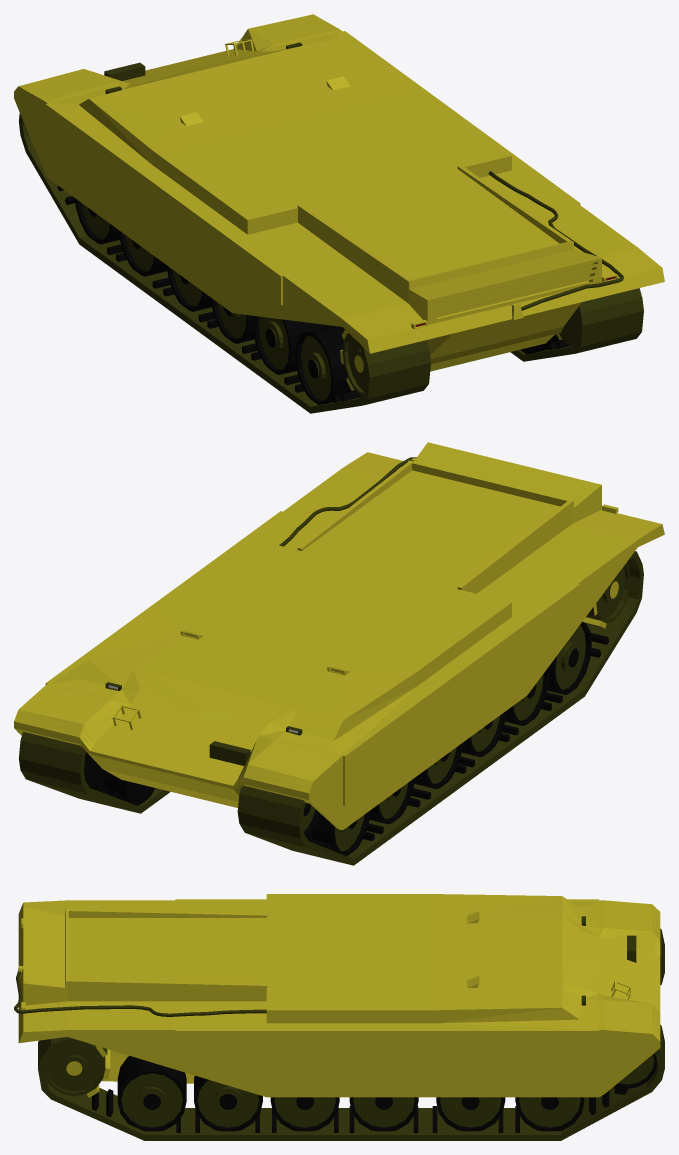
Rendered from orthopillar.dae.
The picture shows the model from 3 angles, top to bottom: view 1: azimuth 30°, elevation 25°; view 2: azimuth 150°, elevation 25°; view 3: azimuth 270°, elevation 25°; orthographic projection. The views are drawn at different scales.
Visible parts, largest first — view 1: body, track, wheels1, wheels2, wheels_engine, cable, wheels3, wheels5, wheels6, wheels4; view 2: body, track, wheels6, wheels1, wheels_engine, wheels2, wheels4, wheels_drive, wheels5, wheels3, box_front, cable; view 3: body, track, wheels1, wheels_engine, wheels2, wheels3, wheels5, wheels6, wheels4, cable, wheels_drive.
Part boxes in pixels (left/top/right/bottom): body: left=14, top=14, right=664, bottom=371; track: left=18, top=113, right=643, bottom=413; wheels1: left=295, top=325, right=562, bottom=404; wheels2: left=252, top=316, right=330, bottom=374; wheels_engine: left=340, top=310, right=578, bottom=396; cable: left=488, top=171, right=623, bottom=310; wheels3: left=210, top=297, right=254, bottom=343; wheels5: left=119, top=230, right=167, bottom=276; wheels6: left=75, top=198, right=119, bottom=244; wheels4: left=167, top=265, right=211, bottom=311; body: left=14, top=442, right=664, bottom=830; track: left=18, top=551, right=643, bottom=865; wheels6: left=104, top=772, right=370, bottom=855; wheels1: left=547, top=621, right=591, bottom=694; wheels_engine: left=582, top=562, right=629, bottom=628; wheels2: left=505, top=667, right=549, bottom=725; wheels4: left=414, top=743, right=462, bottom=789; wheels_drive: left=84, top=752, right=322, bottom=840; wheels5: left=369, top=778, right=414, bottom=824; wheels3: left=461, top=711, right=506, bottom=757; box_front: left=209, top=741, right=250, bottom=765; cable: left=279, top=457, right=416, bottom=546; body: left=17, top=894, right=660, bottom=1097; track: left=38, top=928, right=664, bottom=1140; wheels1: left=117, top=1056, right=186, bottom=1131; wheels_engine: left=45, top=1042, right=110, bottom=1097; wheels2: left=194, top=1075, right=262, bottom=1131; wheels3: left=270, top=1097, right=339, bottom=1131; wheels5: left=436, top=1097, right=505, bottom=1131; wheels6: left=515, top=1097, right=584, bottom=1131; wheels4: left=349, top=1097, right=418, bottom=1131; cable: left=14, top=971, right=266, bottom=1016; wheels_drive: left=614, top=1054, right=657, bottom=1094.
Size of the model in its own units: 1.77 by 3.71 by 0.8529.
